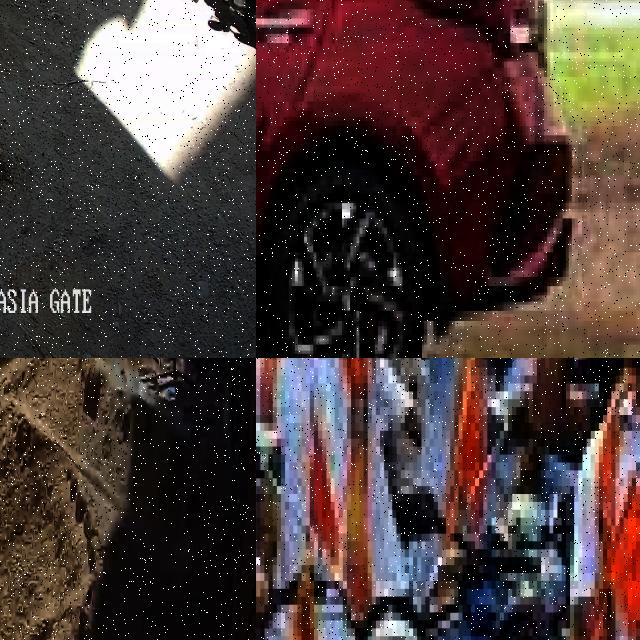bike: (442, 494, 574, 640), (151, 0, 256, 54)
car: (256, 0, 584, 358)
